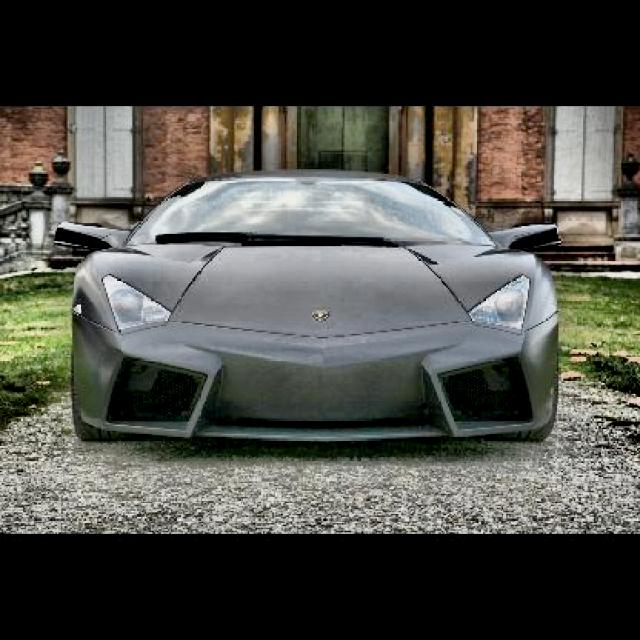black: (58, 175, 579, 458)
